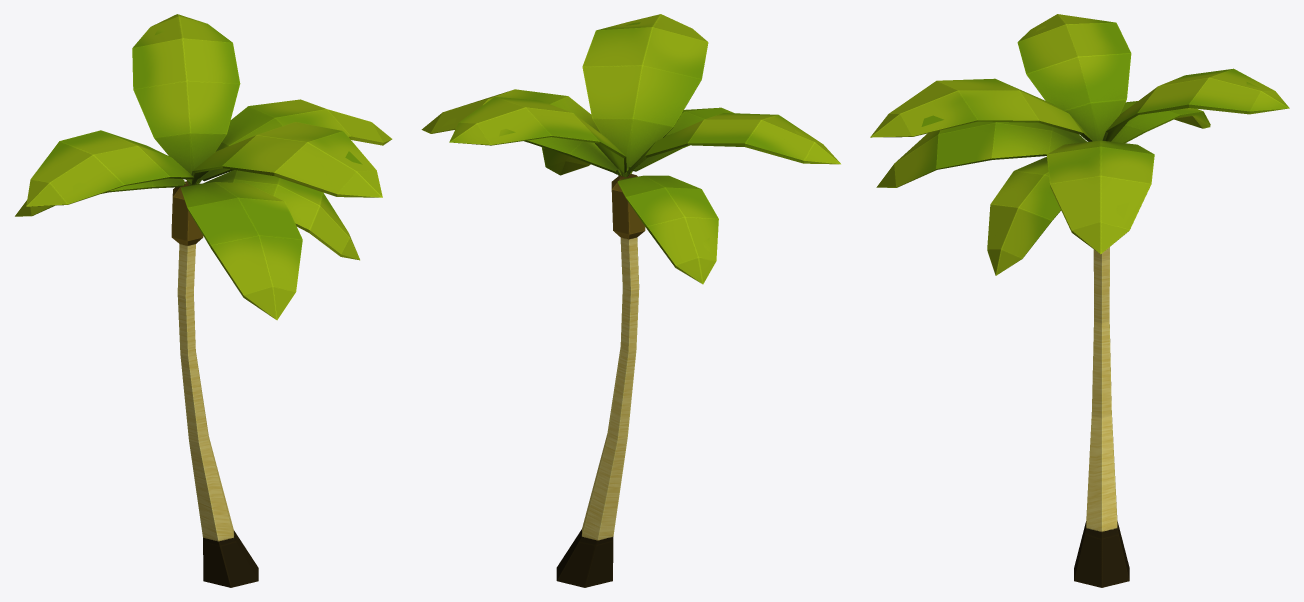
File: PalmTree.obj
3 views of the same model, side by side, from view 1: azimuth 30°, elevation 25°; view 2: azimuth 150°, elevation 25°; view 3: azimuth 270°, elevation 25° (orthographic).
Parts seen in each view (by area): view 1: PalmTree_mesh; view 2: PalmTree_mesh; view 3: PalmTree_mesh.
Boxes of the visible parts, box(x1,y1,x2,y2) form: PalmTree_mesh: box(15, 14, 392, 587); PalmTree_mesh: box(421, 14, 840, 587); PalmTree_mesh: box(870, 14, 1289, 587).
Size of the model in its own units: 7.34 by 8.93 by 6.81.
1 material, 1 textured.
